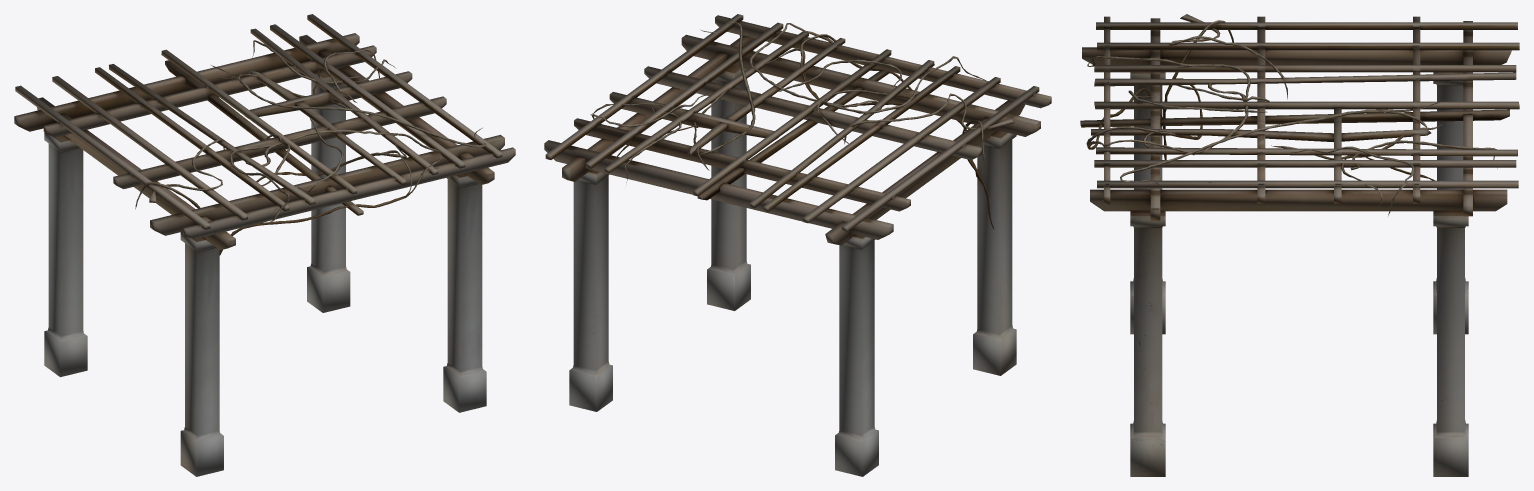
File: pergolado_piscina.glb
The picture shows the model from 3 angles, left to right: view 1: azimuth 30°, elevation 25°; view 2: azimuth 150°, elevation 25°; view 3: azimuth 270°, elevation 25°; orthographic projection. The views are drawn at different scales.
Visible parts, largest first — view 1: Pergolado de piscina; view 2: Pergolado de piscina; view 3: Pergolado de piscina.
Part boxes in pixels (x1,y1,x2,y2): Pergolado de piscina: (14, 14, 515, 476); Pergolado de piscina: (544, 14, 1051, 476); Pergolado de piscina: (1080, 14, 1519, 476).
Bounding box in the file's own units: 0.998 × 0.748 × 0.9746.
Materials: 1 (1 with a texture image).
